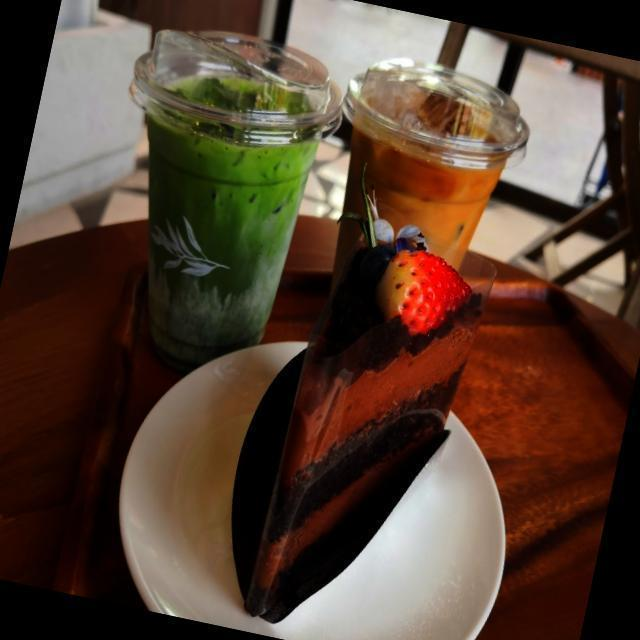cup: (139, 14, 343, 354), (320, 68, 550, 262)
